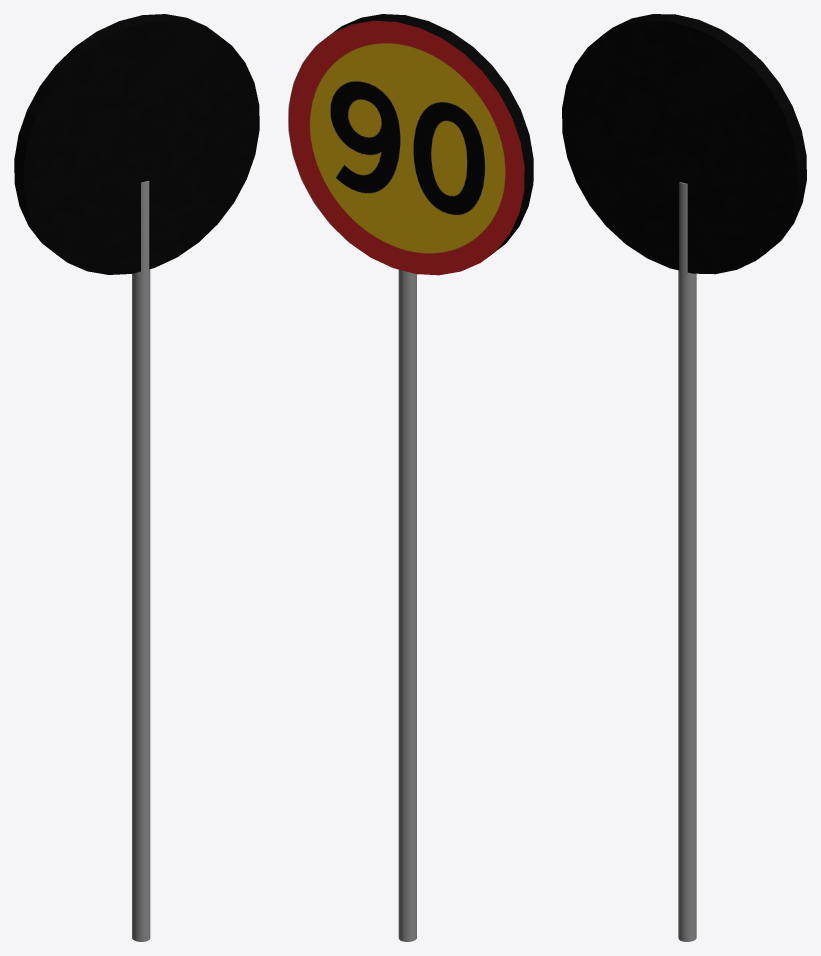
The model's file is speed_lim_90.glb.
3 views of the same model, side by side, from view 1: azimuth 30°, elevation 25°; view 2: azimuth 150°, elevation 25°; view 3: azimuth 330°, elevation 25° (orthographic).
Visible parts, largest first — view 1: Cylinder.001, Cylinder; view 2: Cylinder.001, Cylinder; view 3: Cylinder.001, Cylinder.
Part boxes in pixels (<box>): Cylinder.001: <box>14,14,259,274</box>; Cylinder: <box>132,180,150,941</box>; Cylinder.001: <box>288,14,533,275</box>; Cylinder: <box>398,269,416,941</box>; Cylinder.001: <box>562,14,806,274</box>; Cylinder: <box>678,182,696,941</box>.
Bounding box in the file's own units: 1.61 × 5.99 × 0.1178.
2 materials, 1 textured.
